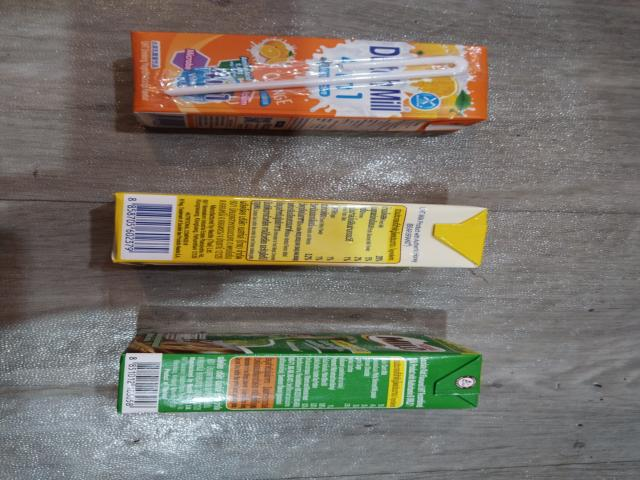drink_box: (121, 22, 496, 138), (99, 188, 505, 278), (109, 333, 492, 419)
